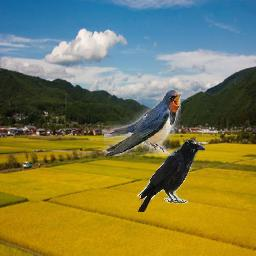Crow: (137, 138, 205, 212)
Swallow: (105, 90, 182, 156)
